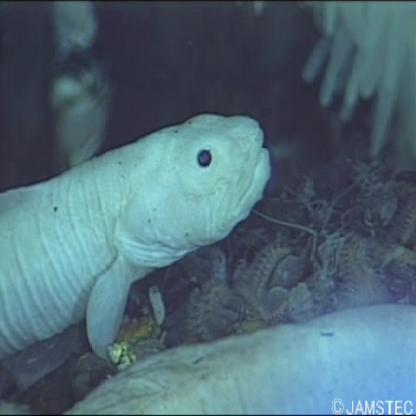Bio: (1, 105, 275, 368)
